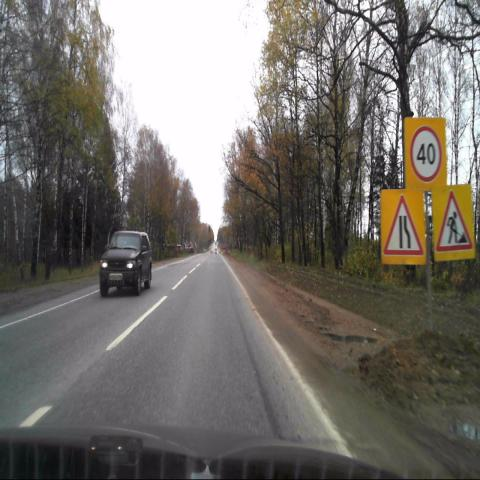1_25: (434, 185, 474, 261)
